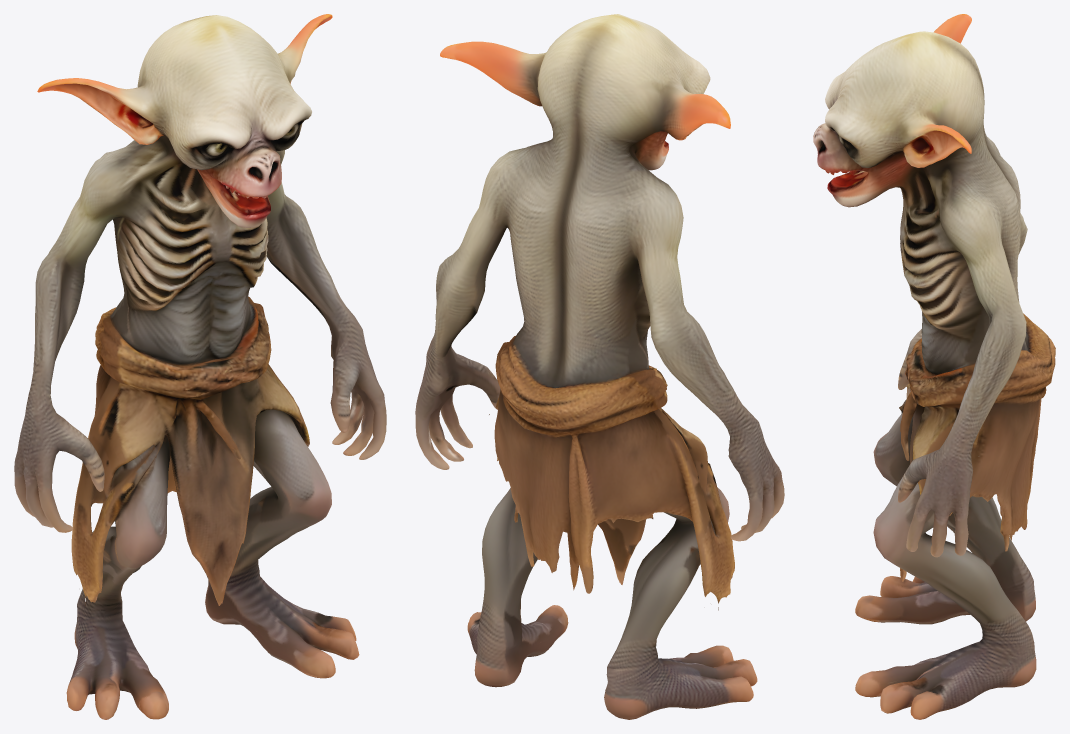
Rendered from Goblin.fbx.
The picture shows the model from 3 angles, left to right: view 1: azimuth 30°, elevation 25°; view 2: azimuth 150°, elevation 25°; view 3: azimuth 270°, elevation 25°; orthographic projection. The views are drawn at different scales.
Parts seen in each view (by area): view 1: model; view 2: model; view 3: model.
Boxes of the visible parts, x1,y1,x2,y2 form: model: (14, 14, 386, 719); model: (415, 14, 784, 719); model: (813, 14, 1055, 719).
Size of the model in its own units: 97.79 by 176 by 62.02.
